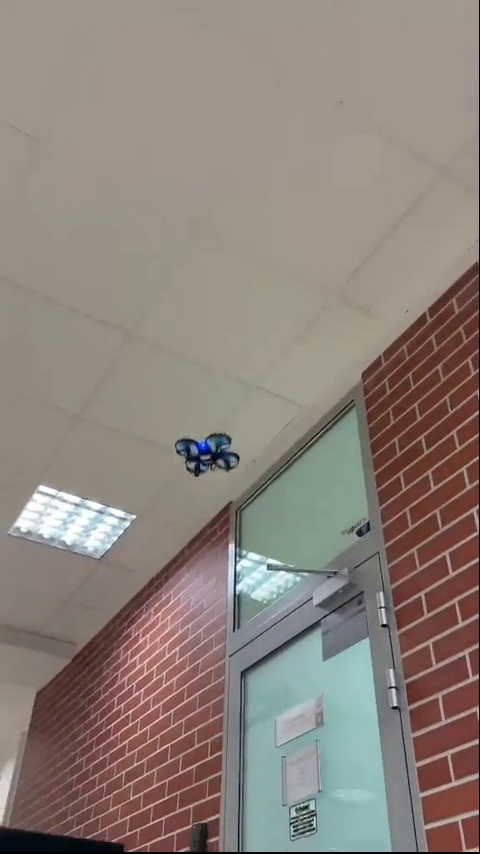drone: (174, 431, 242, 475)
